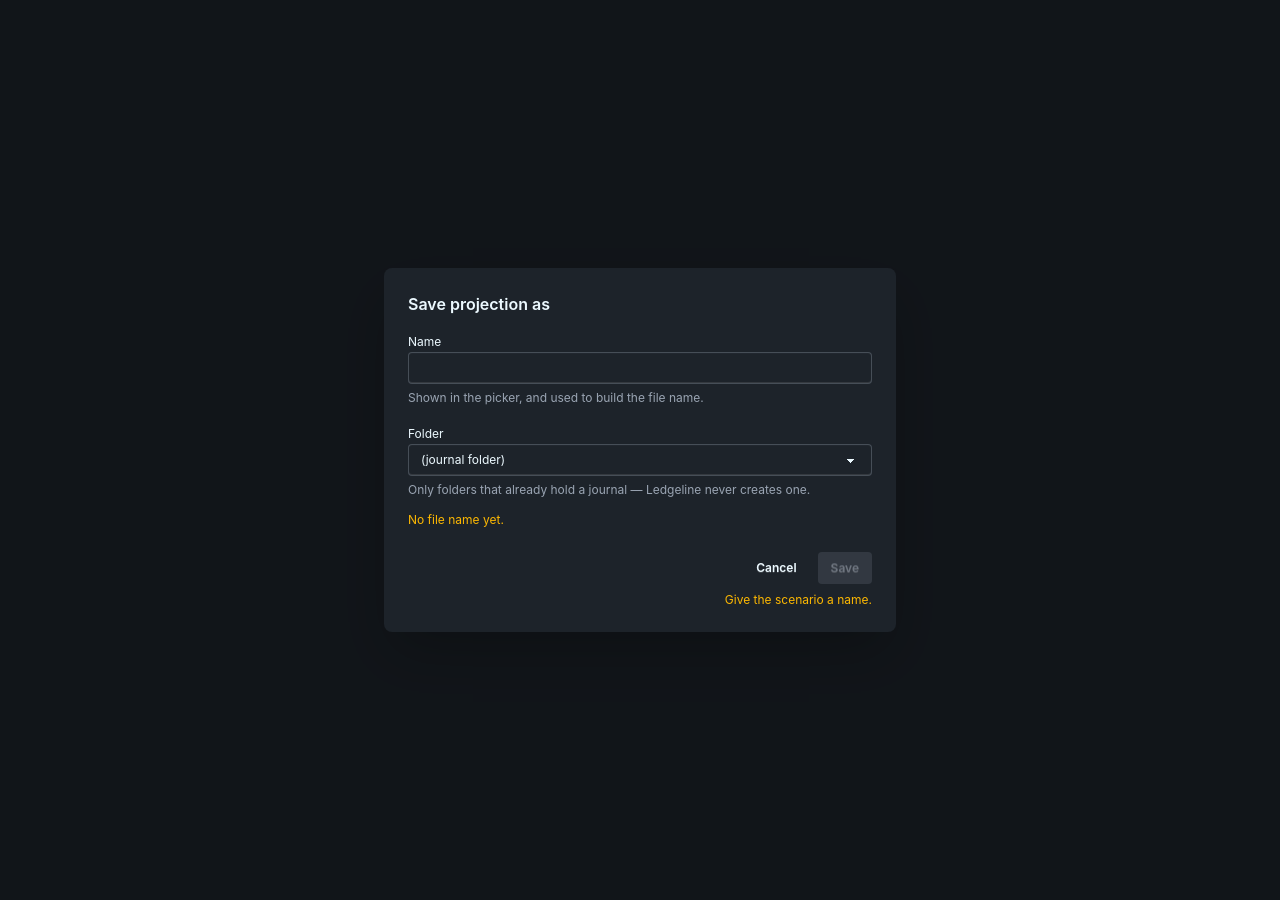
Test: COMPONENT SaveScenarioDialog › joins the chosen folder into the path it shows
The width and height of the screenshot is (1280, 900).
Type "Series B" into the field with test id "projection-save-name" at [640, 368], box top-left (408, 352), bottom-right (872, 384)
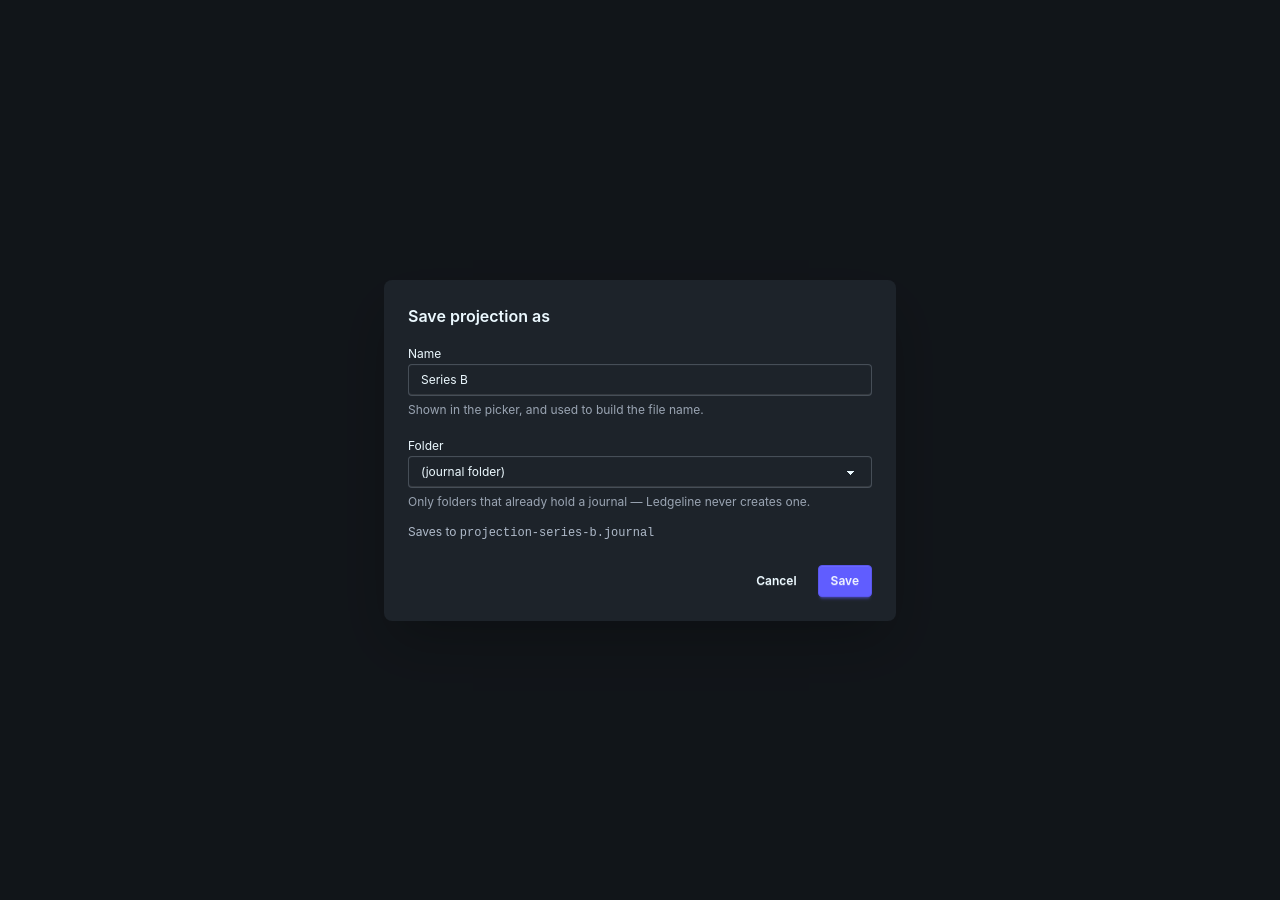
Select "plans" in the dropdown with test id "projection-save-dir" at [640, 472], box top-left (408, 456), bottom-right (872, 488)
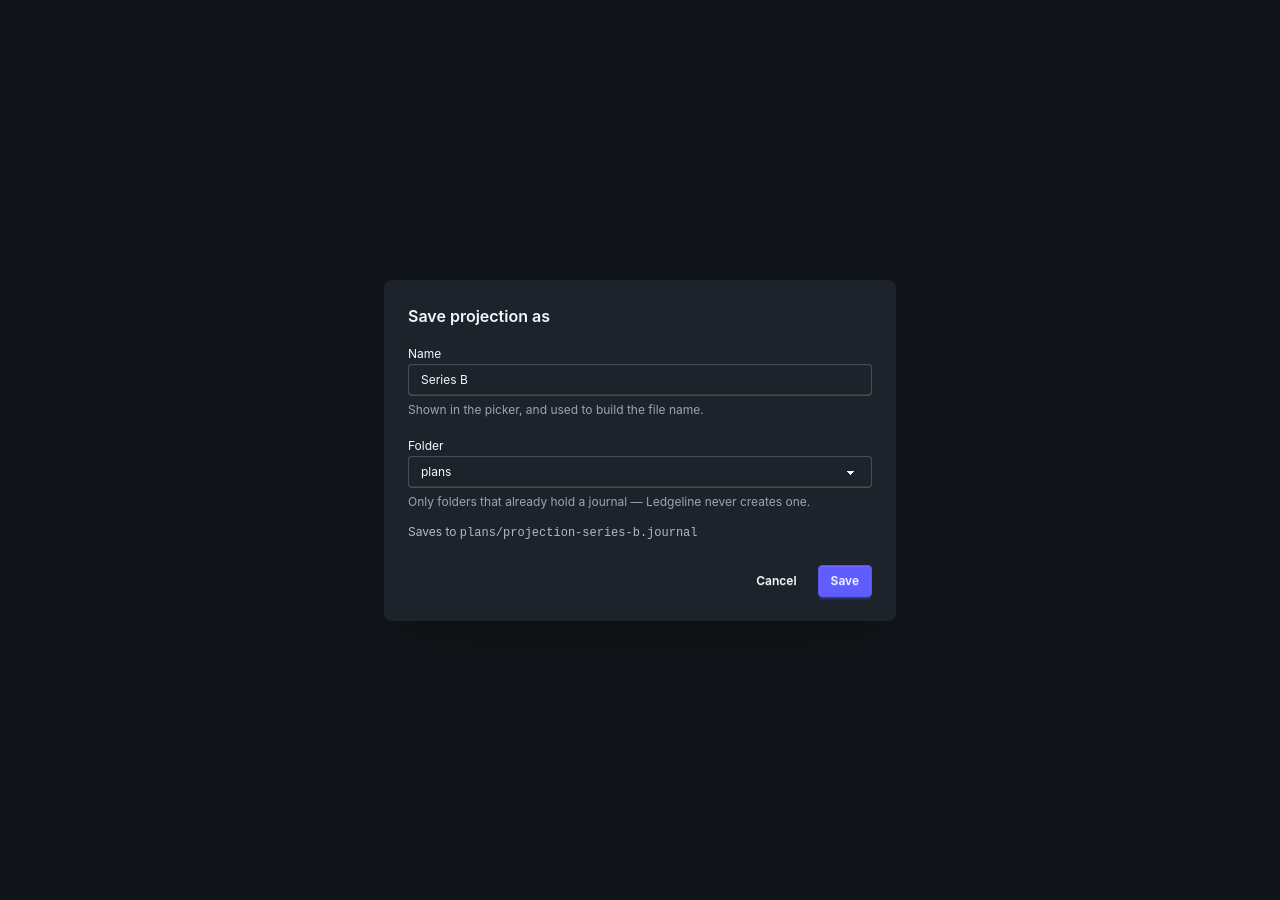
Expected: the element with test id "projection-save-path" shows "plans/projection-series-b.journal", top-left (460, 526), bottom-right (698, 540)
